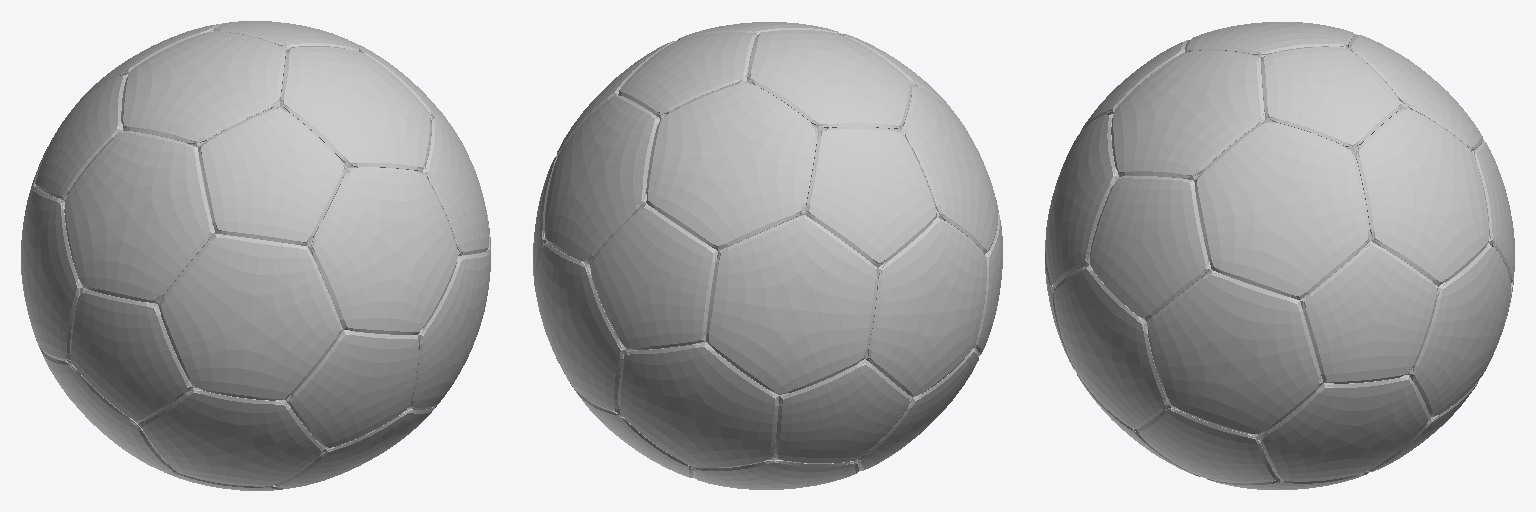
The model's file is Ball Football Nike orange N060122.obj.
3 views of the same model, side by side, from view 1: azimuth 30°, elevation 25°; view 2: azimuth 150°, elevation 25°; view 3: azimuth 270°, elevation 25° (orthographic).
Visible parts, largest first — view 1: Hedra003; view 2: Hedra003; view 3: Hedra003.
Part boxes in pixels (x1,y1,x2,y2): Hedra003: (21, 21, 490, 490); Hedra003: (533, 22, 1002, 489); Hedra003: (1045, 22, 1514, 489).
Bounding box in the file's own units: 9763 × 9776 × 9781.